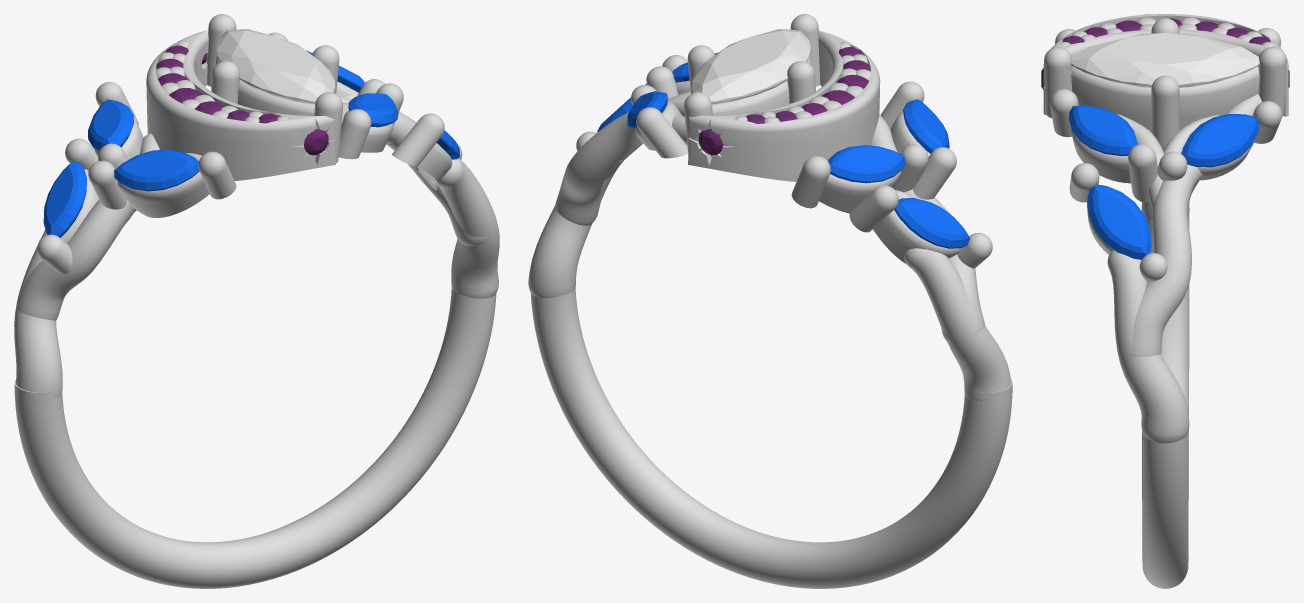
The model's file is AlexPTV3NEWupdated.glb.
3 views of the same model, side by side, from view 1: azimuth 30°, elevation 25°; view 2: azimuth 150°, elevation 25°; view 3: azimuth 270°, elevation 25° (orthographic).
Visible parts, largest first — view 1: V4 Alex PT for 3d model, Alex dia for 3d model, Alex sapph for 3d model.004, Alex sapph for 3d model, Alex alexandrite for 3d model, Alex sapph for 3d model.002, Alex sapph for 3d model.005; view 2: V4 Alex PT for 3d model, Alex dia for 3d model, Alex sapph for 3d model, Alex sapph for 3d model.002, Alex alexandrite for 3d model, Alex sapph for 3d model.004, Alex sapph for 3d model.001; view 3: V4 Alex PT for 3d model, Alex dia for 3d model, Alex sapph for 3d model.003, Alex sapph for 3d model.001, Alex sapph for 3d model.005, Alex alexandrite for 3d model.
Part boxes in pixels (x1,y1,x2,y2): V4 Alex PT for 3d model: [14, 14, 499, 588]; Alex dia for 3d model: [216, 29, 334, 104]; Alex sapph for 3d model.004: [114, 149, 199, 191]; Alex sapph for 3d model: [43, 161, 86, 237]; Alex alexandrite for 3d model: [156, 45, 328, 155]; Alex sapph for 3d model.002: [88, 99, 133, 150]; Alex sapph for 3d model.005: [348, 93, 398, 127]; V4 Alex PT for 3d model: [528, 14, 1012, 588]; Alex dia for 3d model: [692, 29, 810, 104]; Alex sapph for 3d model: [894, 198, 970, 248]; Alex sapph for 3d model.002: [828, 145, 905, 183]; Alex alexandrite for 3d model: [698, 47, 870, 155]; Alex sapph for 3d model.004: [903, 99, 949, 153]; Alex sapph for 3d model.001: [627, 91, 667, 128]; V4 Alex PT for 3d model: [1043, 14, 1288, 588]; Alex dia for 3d model: [1071, 32, 1259, 87]; Alex sapph for 3d model.003: [1087, 184, 1151, 259]; Alex sapph for 3d model.001: [1181, 114, 1259, 167]; Alex sapph for 3d model.005: [1069, 105, 1137, 155]; Alex alexandrite for 3d model: [1041, 18, 1289, 89].
Bounding box in the file's own units: 19.68 × 20.68 × 8.81.
